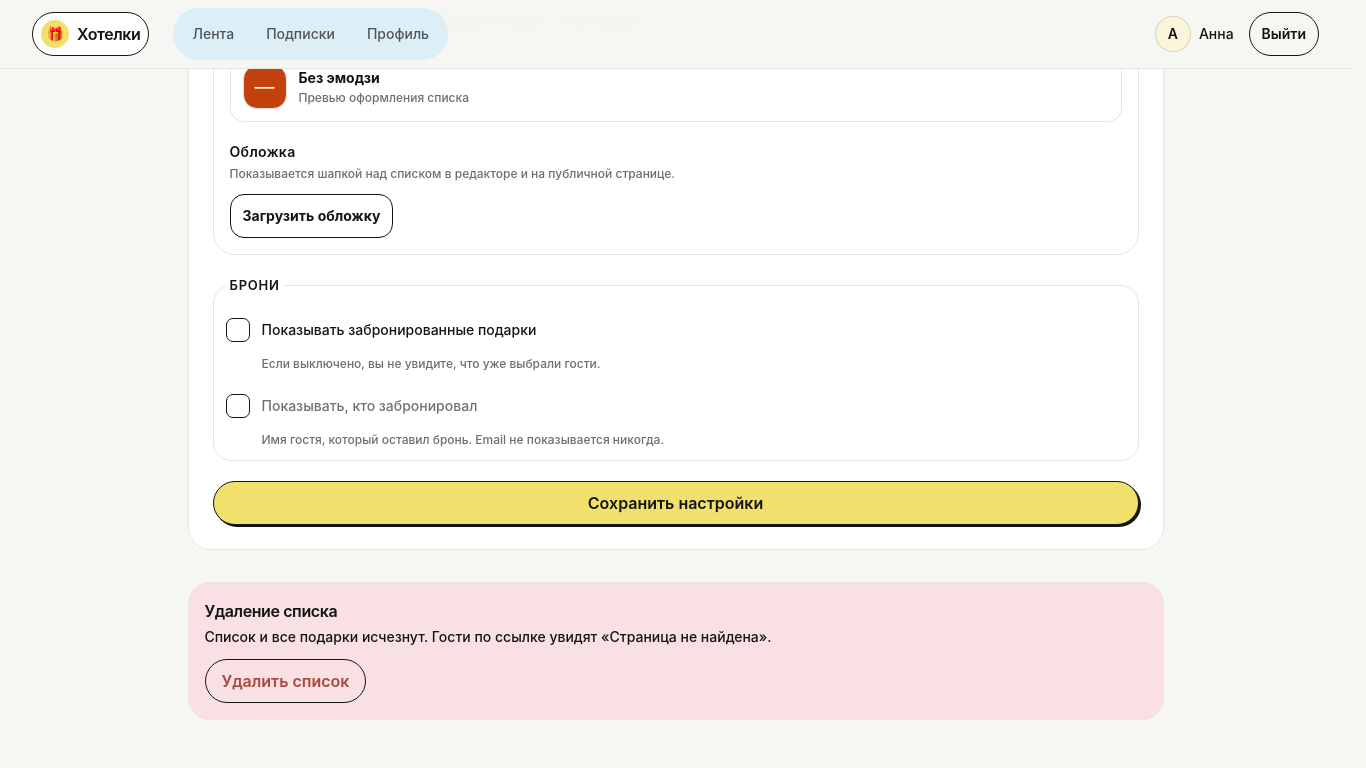
Scenario: настройки списка › удаляет список после подтверждения
The image size is (1366, 768).
(page scrolled)
Click the button "Удалить список".
click(285, 680)  # box [204,658,366,702]
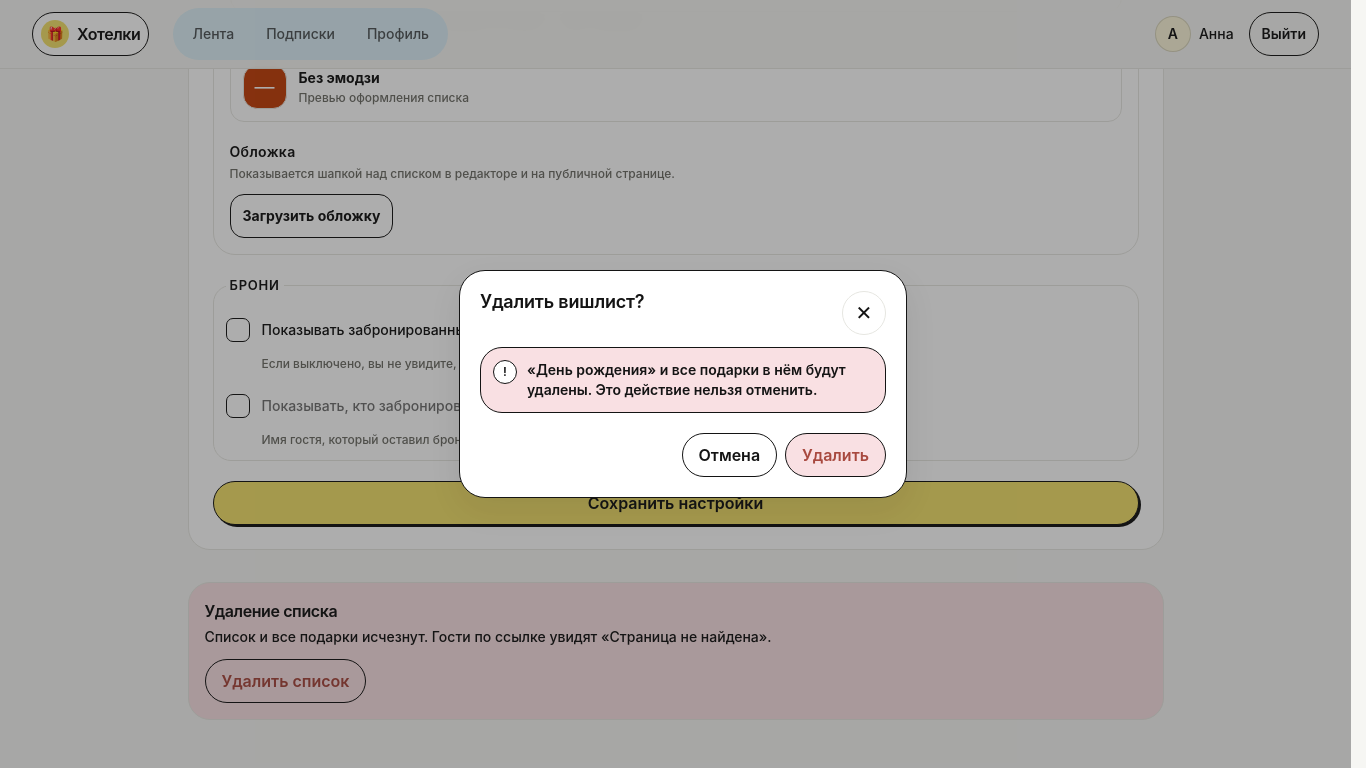
Click the button "Удалить".
click(836, 455)  # box [785,433,886,477]
(page scrolled)
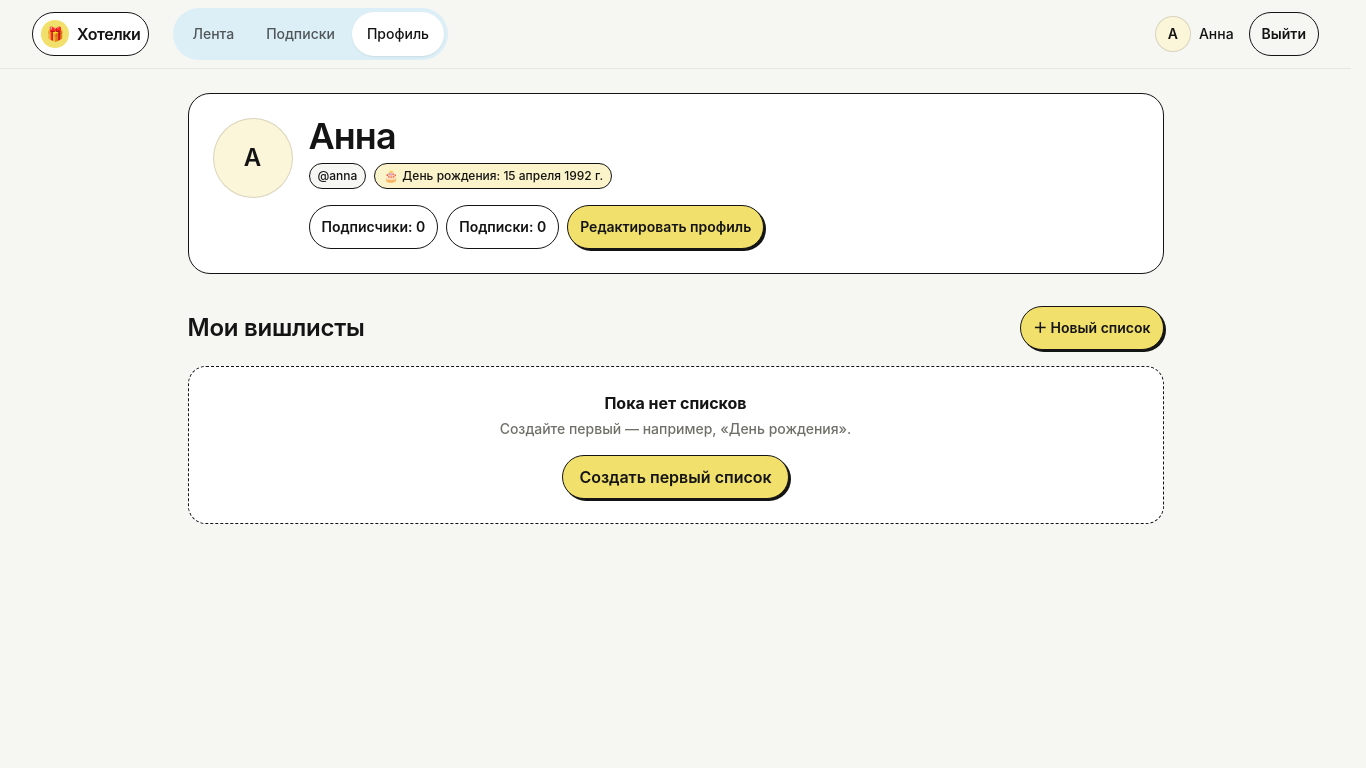
Expected: the heading "Анна" is shown, [308,114,396,158]
